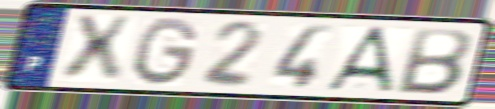2: (199, 19, 266, 91)
4: (269, 22, 329, 92)
A: (321, 24, 398, 95)
B: (392, 26, 474, 98)
G: (130, 15, 202, 89)
X: (59, 14, 135, 84)
